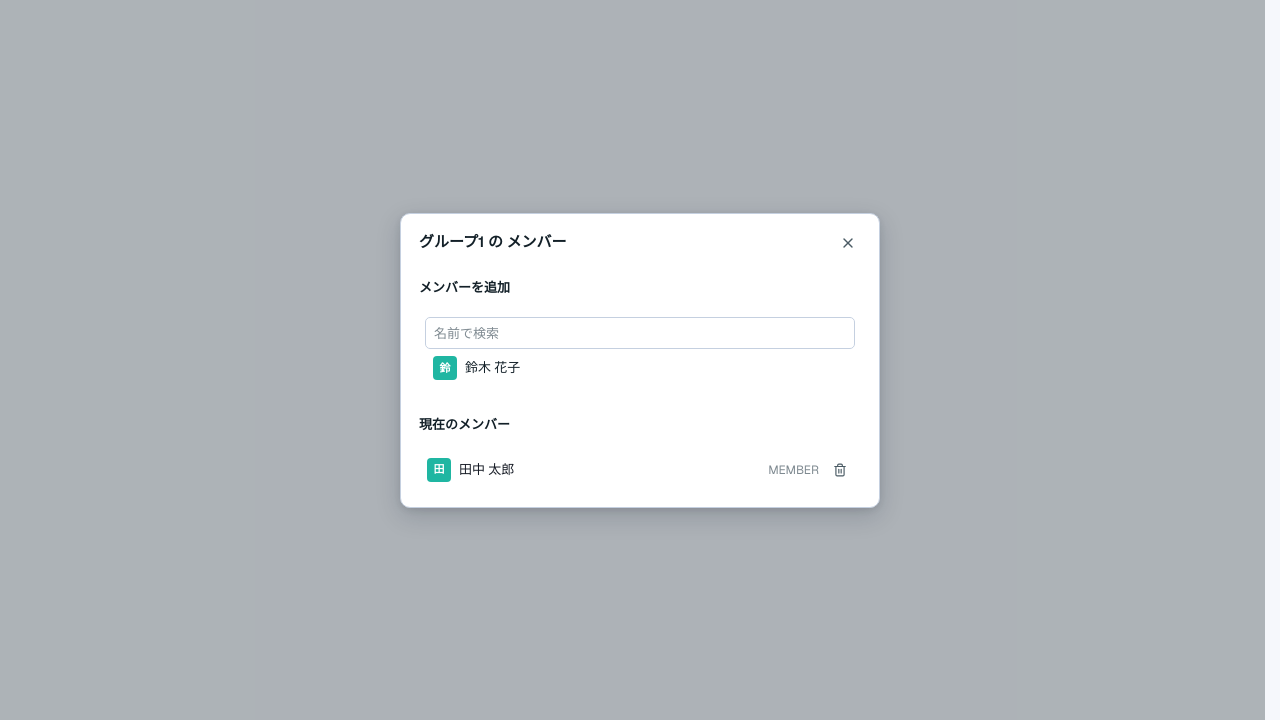
Scenario: DeskMembershipScopeModal（dsk-0309・共通メンバー管理モーダル） › 削除失敗時、inline エラーと toast.error の両方を出すこと
Click the button named "田中 太郎 を削除".
click(840, 470)  # box [827, 456, 853, 482]
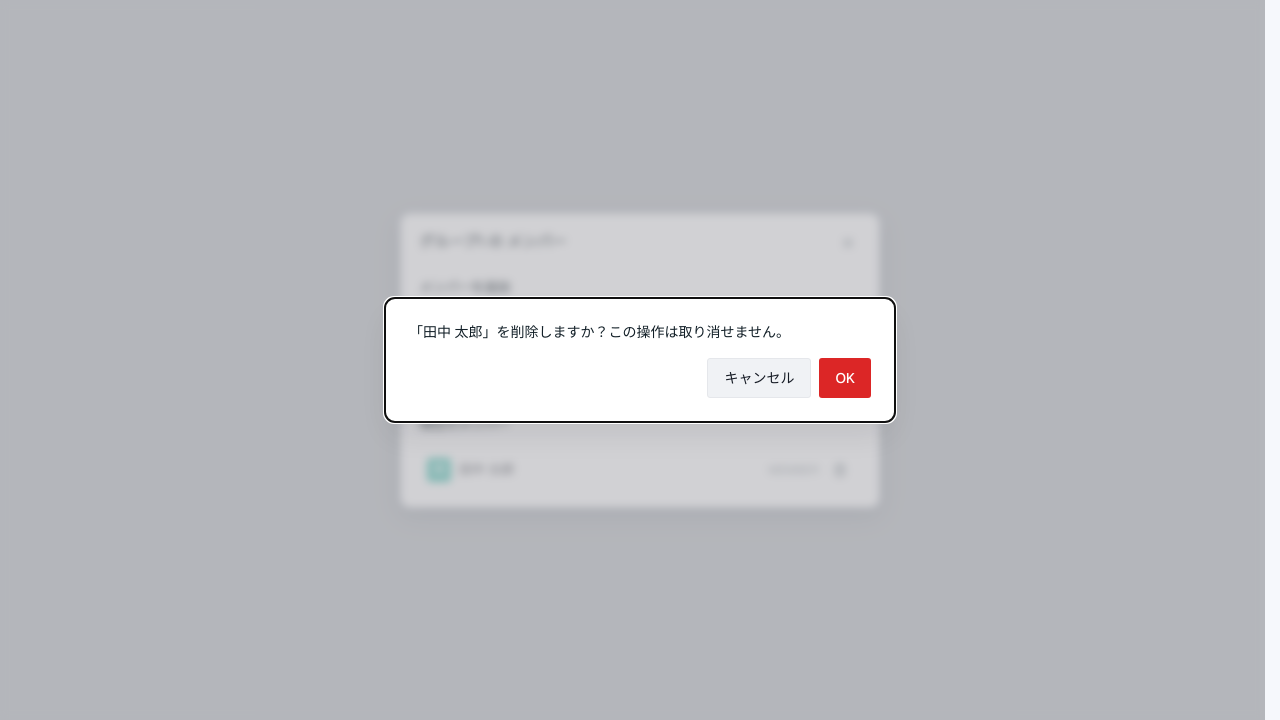
Click the button "OK".
click(845, 378)  # box [820, 358, 871, 398]
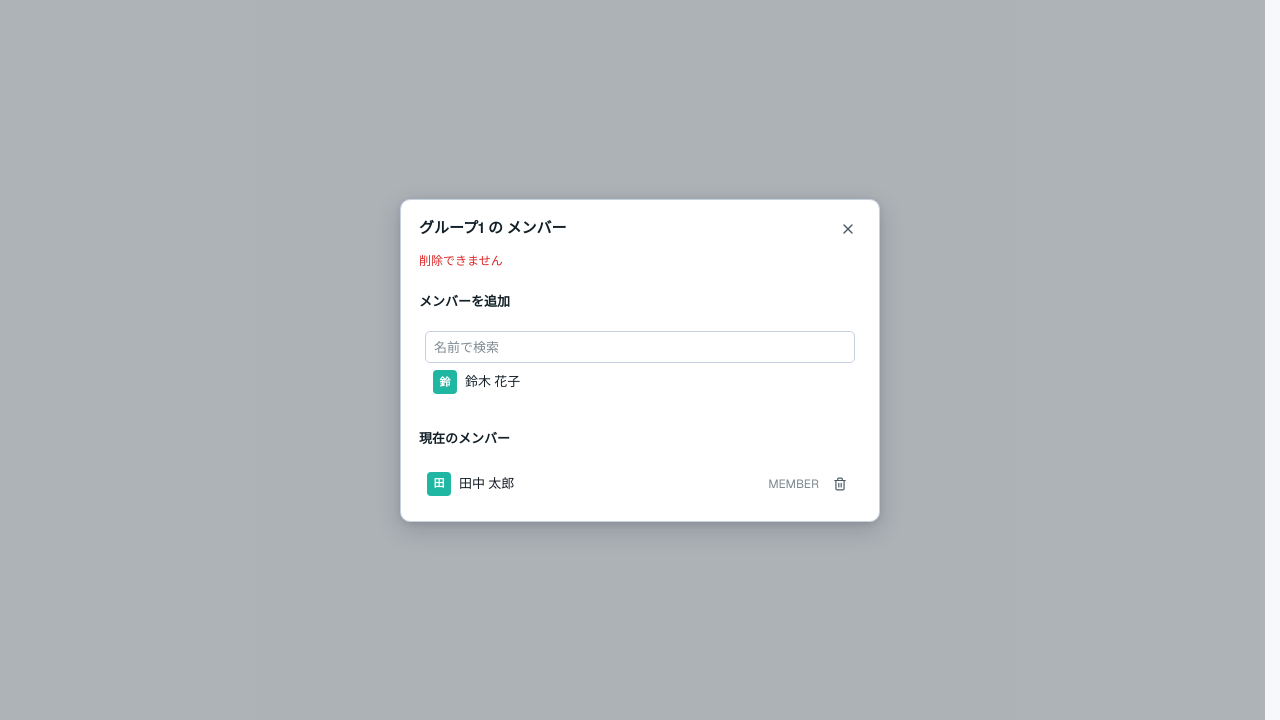
Now the message reads "削除できません", box [419, 252, 503, 268]
